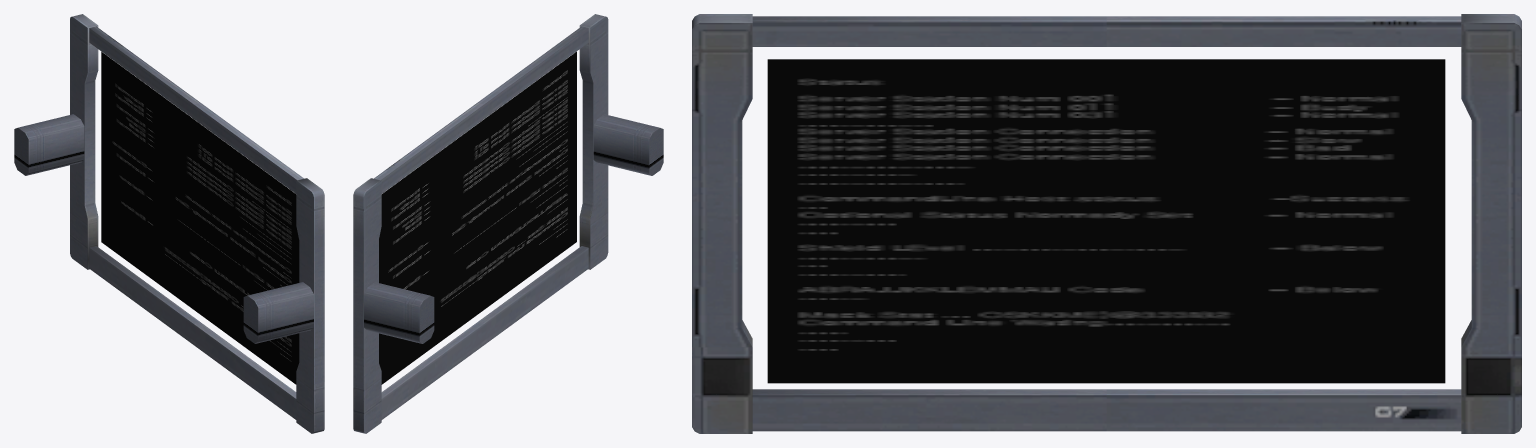
Rendered from WallScreen02.FBX.
3 views of the same model, side by side, from view 1: azimuth 30°, elevation 25°; view 2: azimuth 150°, elevation 25°; view 3: azimuth 270°, elevation 25° (orthographic). The views are drawn at different scales.
Parts seen in each view (by area): view 1: WallScreen02; view 2: WallScreen02; view 3: WallScreen02.
Boxes of the visible parts, x1,y1,x2,y2 form: WallScreen02: [14, 14, 324, 433]; WallScreen02: [353, 14, 663, 433]; WallScreen02: [692, 14, 1521, 433].
Size of the model in its own units: 0.1722 by 0.6 by 1.1.
